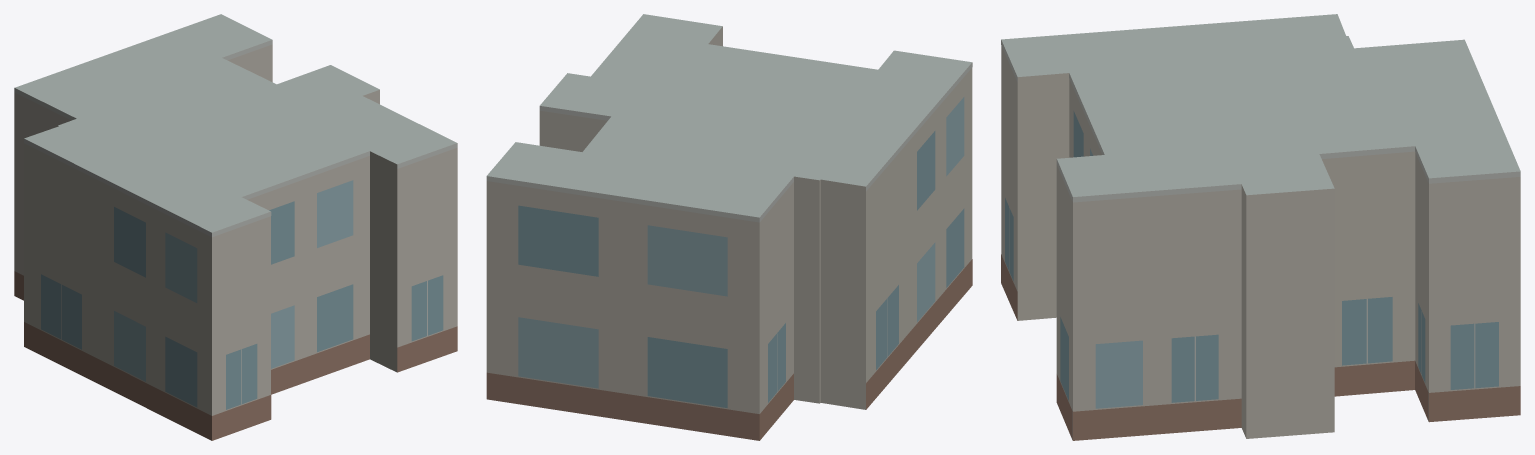
Rendered from survey-upis-32837410.glb.
The picture shows the model from 3 angles, left to right: view 1: azimuth 30°, elevation 25°; view 2: azimuth 150°, elevation 25°; view 3: azimuth 270°, elevation 25°; orthographic projection. The views are drawn at different scales.
Parts seen in each view (by area): view 1: survey-upis-32837410.tmp; view 2: survey-upis-32837410.tmp; view 3: survey-upis-32837410.tmp.
Part boxes in pixels (x1=…): survey-upis-32837410.tmp: x1=14, y1=14, x2=457, y2=440; survey-upis-32837410.tmp: x1=486, y1=14, x2=972, y2=440; survey-upis-32837410.tmp: x1=1001, y1=14, x2=1520, y2=440.
Size of the model in its own units: 17.82 by 11.05 by 21.36.
